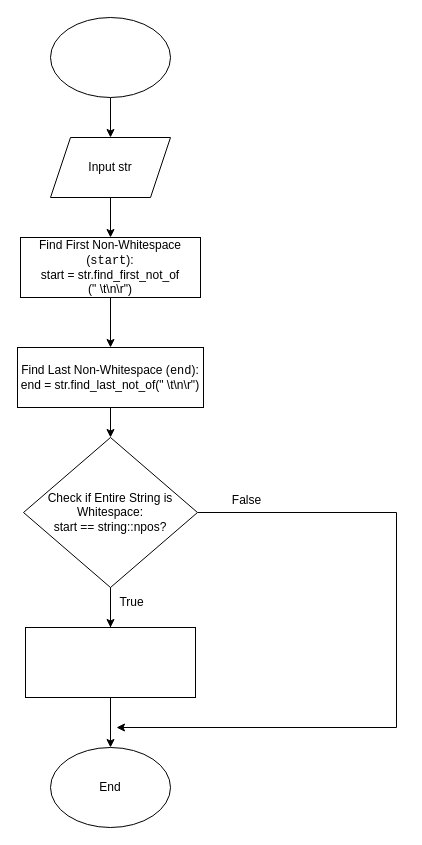
The diagram is 422 pixels wide and 845 high, and some of its shapes have lost their labels. The box of each missing label's shape, as (x1, y1, x2, y2) in pixels:
Return str.substr(start, end - start + 1): (24, 626, 196, 698)
Start: (50, 16, 170, 98)
